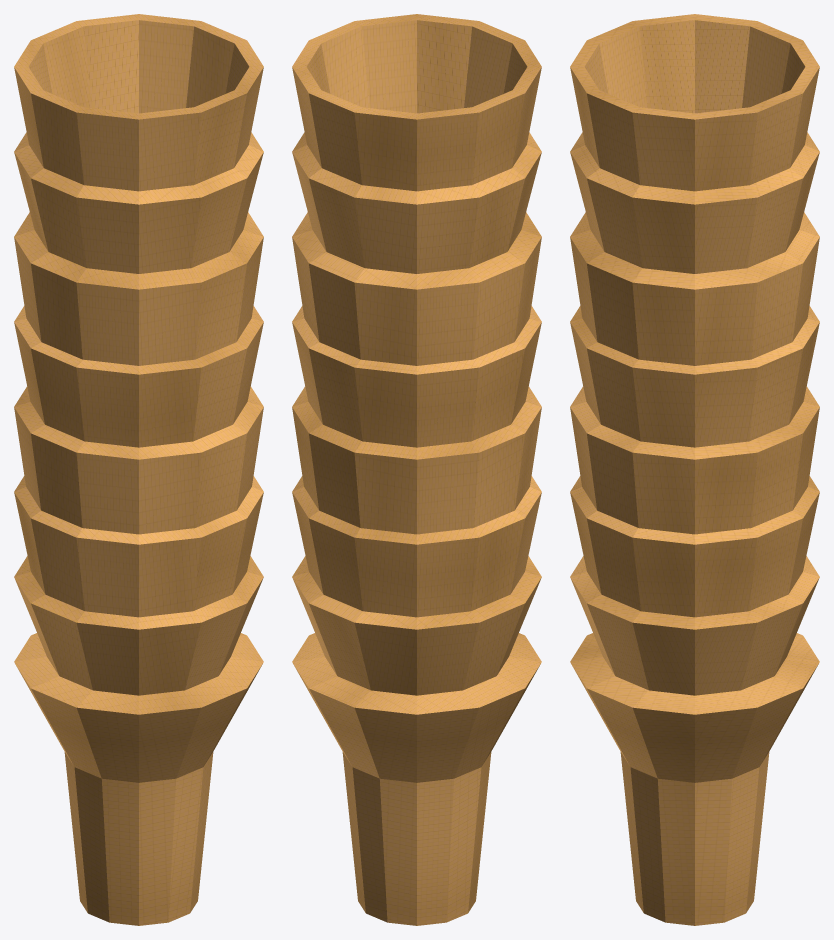
File: Ice_cream_cone_4.fbx
3 renders of one model, left to right at view 1: azimuth 30°, elevation 25°; view 2: azimuth 150°, elevation 25°; view 3: azimuth 270°, elevation 25°, orthographic.
Visible parts, largest first — view 1: Ice_cream_cone_4; view 2: Ice_cream_cone_4; view 3: Ice_cream_cone_4.
Part boxes in pixels (x1=…): Ice_cream_cone_4: x1=14, y1=14, x2=263, y2=925; Ice_cream_cone_4: x1=292, y1=14, x2=541, y2=925; Ice_cream_cone_4: x1=570, y1=14, x2=819, y2=925.
Bounding box in the file's own units: 17.87 × 65.84 × 17.87.
